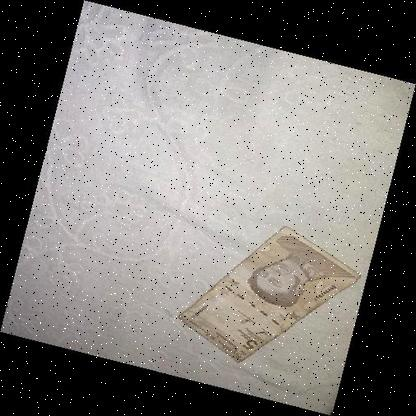five-front-vef: (178, 225, 361, 363)
